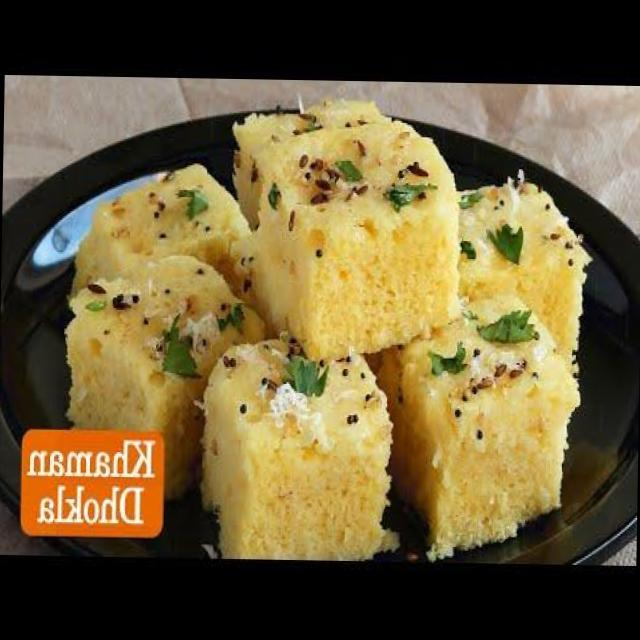dhokla: (56, 94, 582, 582)
